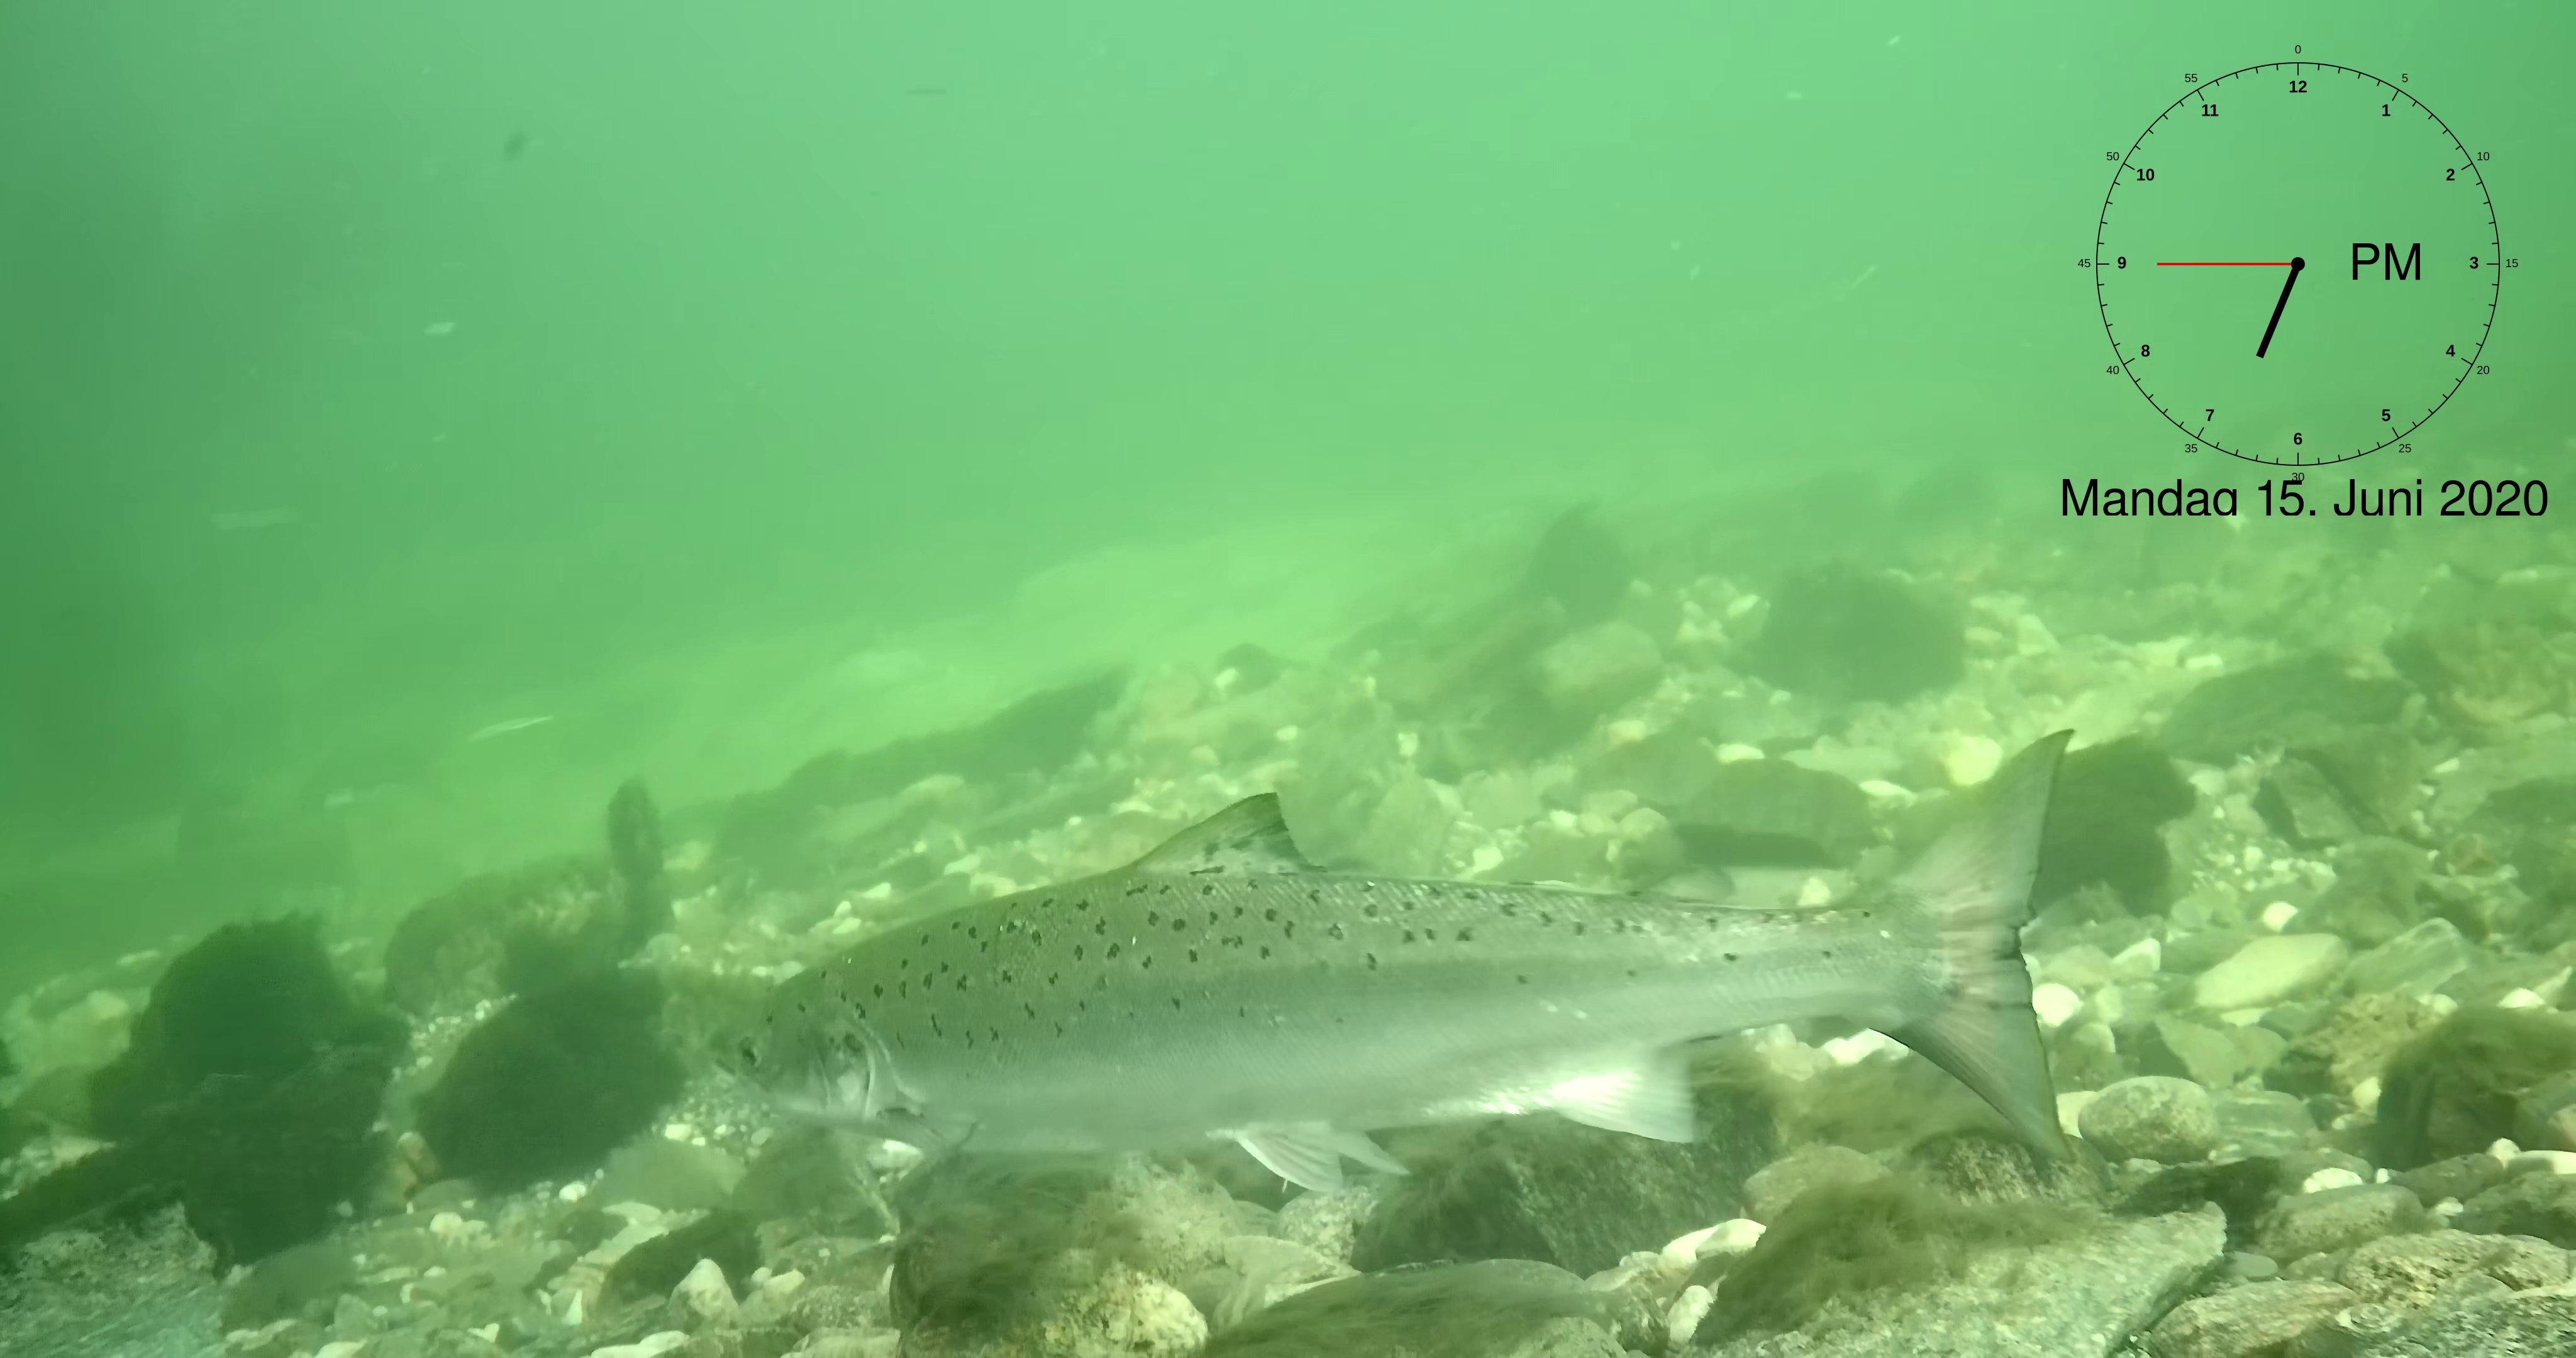salmon: (704, 726, 2079, 1193)
